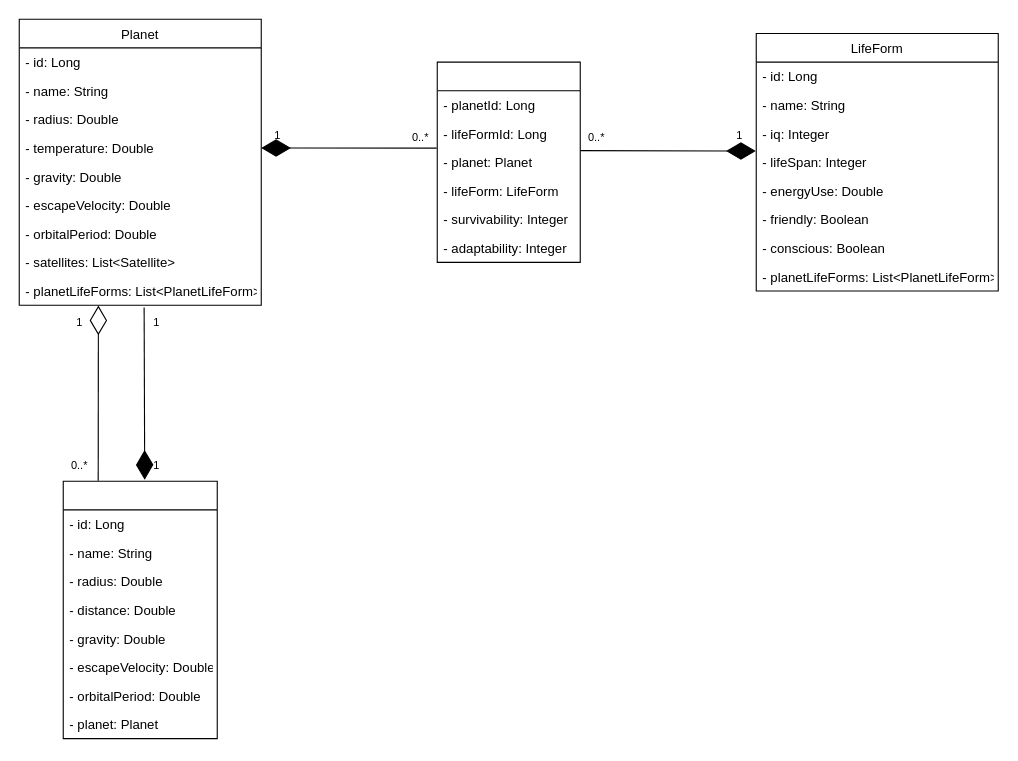
Image size: 1018x761. Some labels were removed from this diagram. The shapes that lost their labels are listed below. From the top down, each one's box as (x1, y1, x2, y2) in pixels, then its label:
(436, 61, 580, 262): PlanetLifeForm
(62, 480, 217, 739): Satellite
